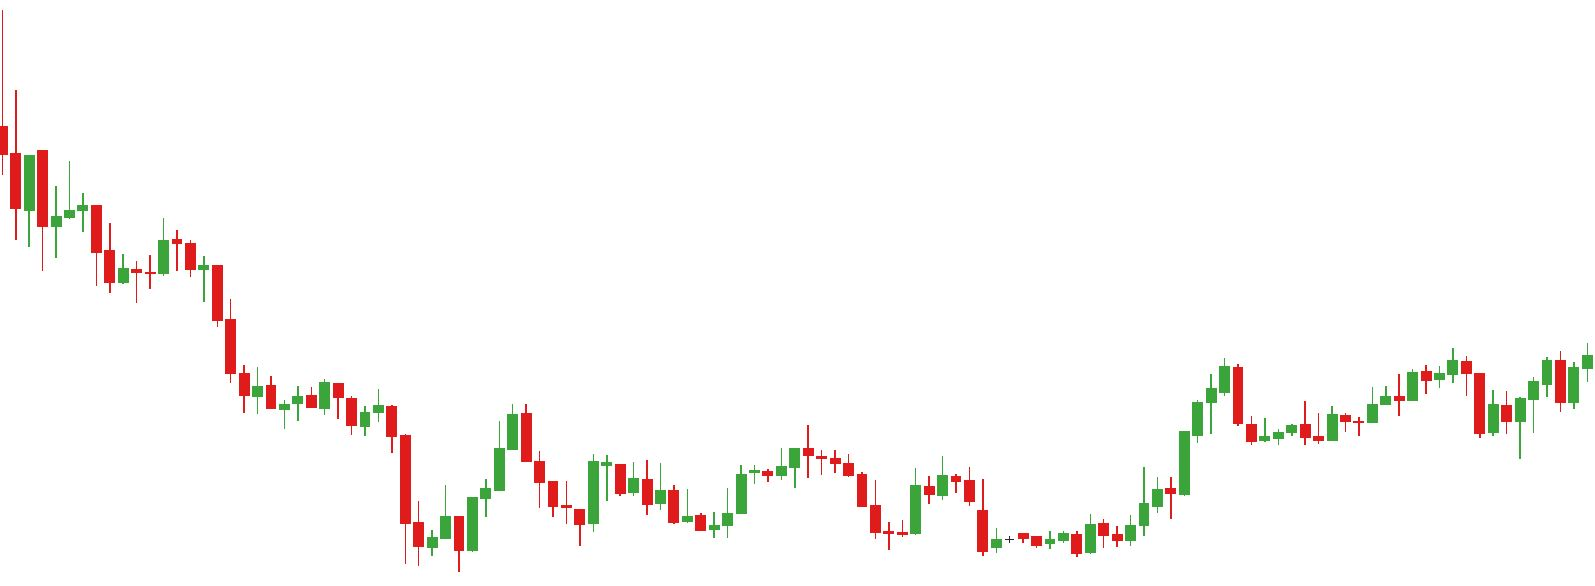buy: (884, 482, 1004, 561)
